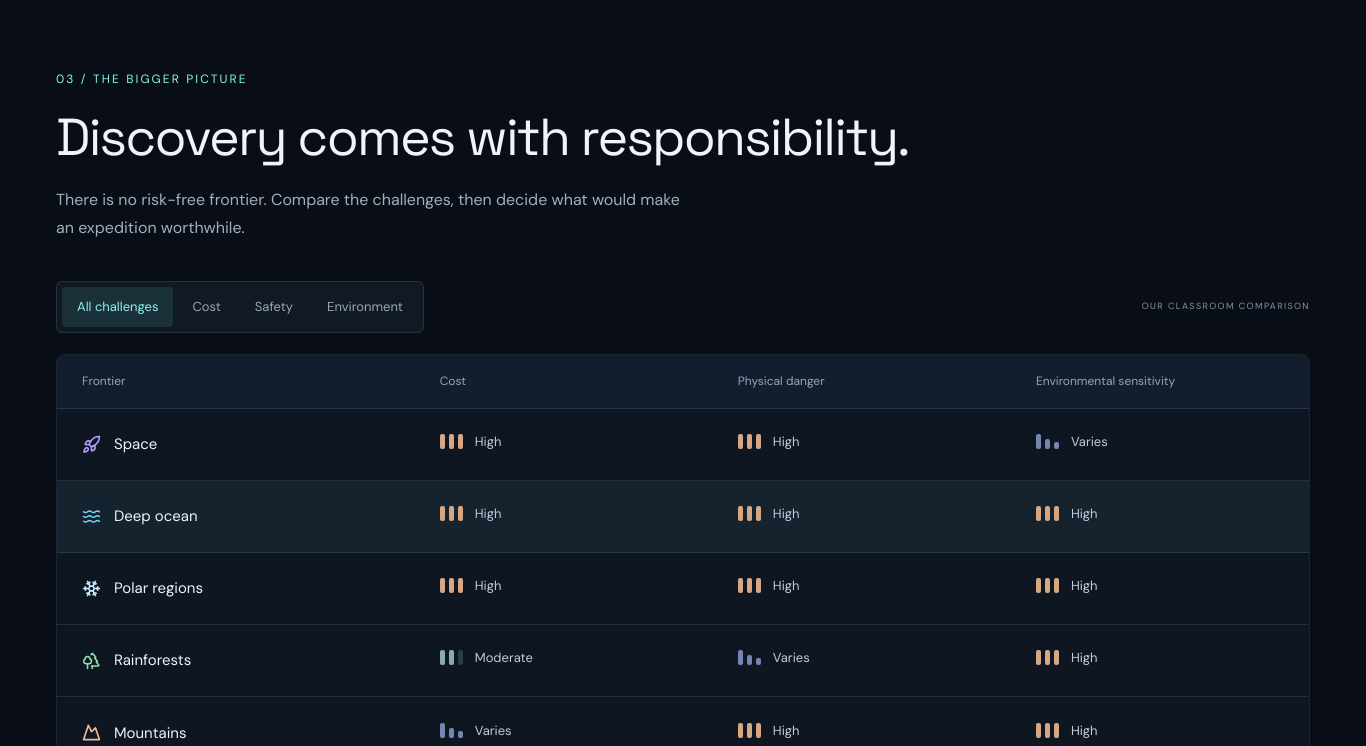
it: classroom interactions › changes comparison columns and the selected regional insight
Click the button "Environment".
click(365, 307)  # box [312,287,418,327]
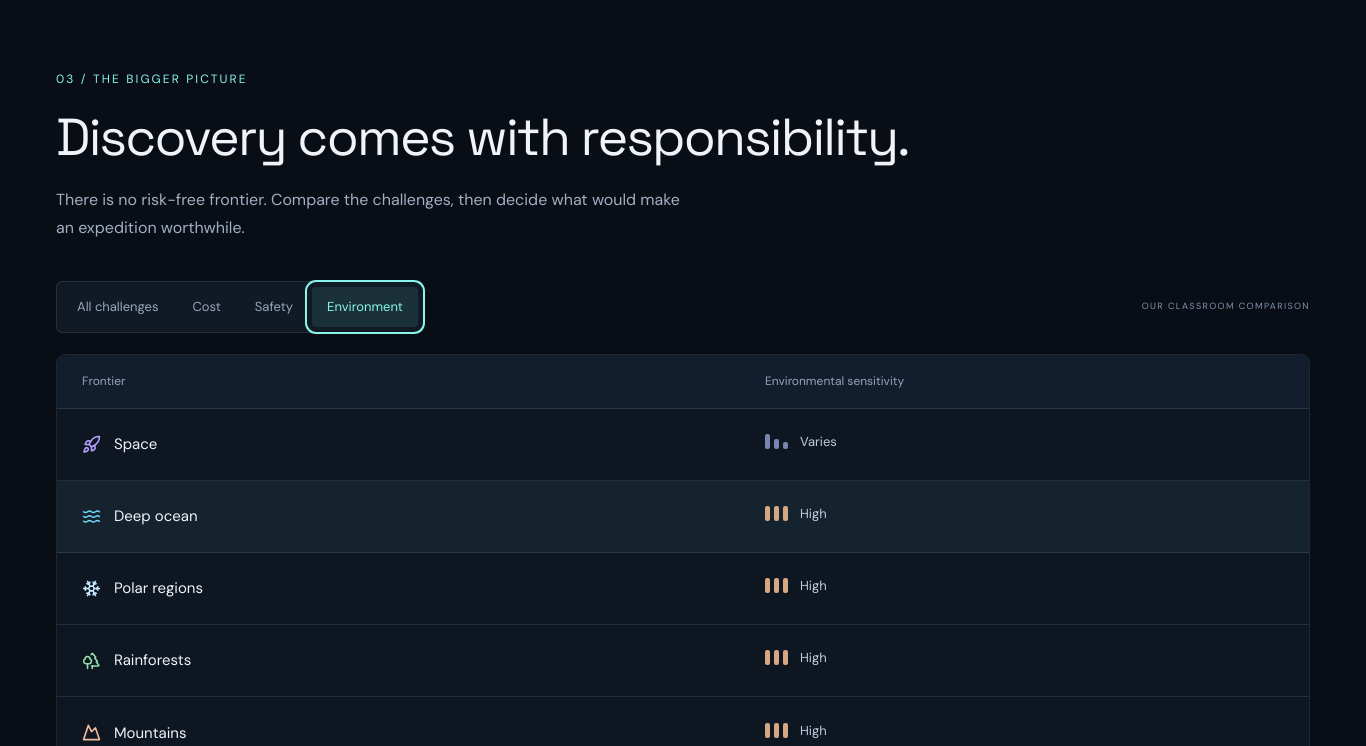
Now the number of column headings is 2, box [82,373,126,389]; [765,373,904,389]
Click the button "Space".
click(120, 444)  # box [82,433,157,456]
(page scrolled)
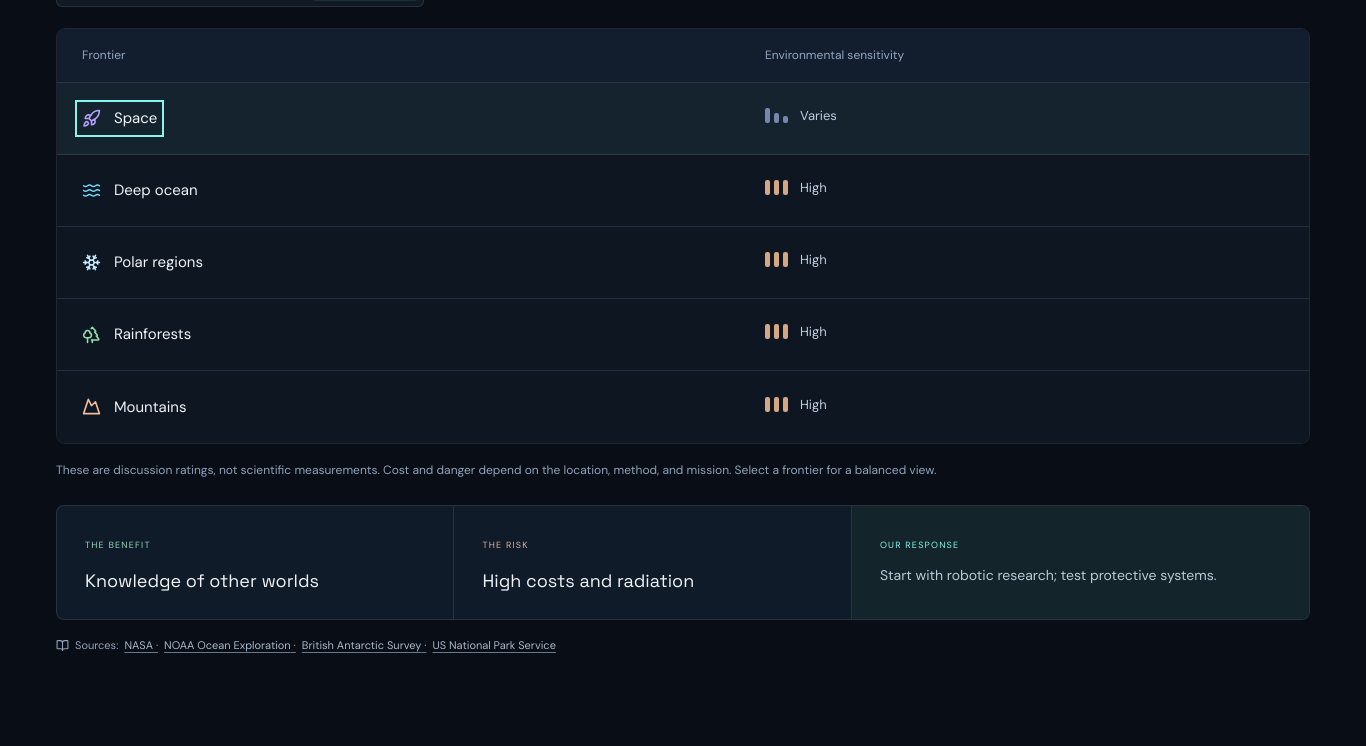
Now the heading "Knowledge of other worlds" is shown, box [85,569,319,592]
